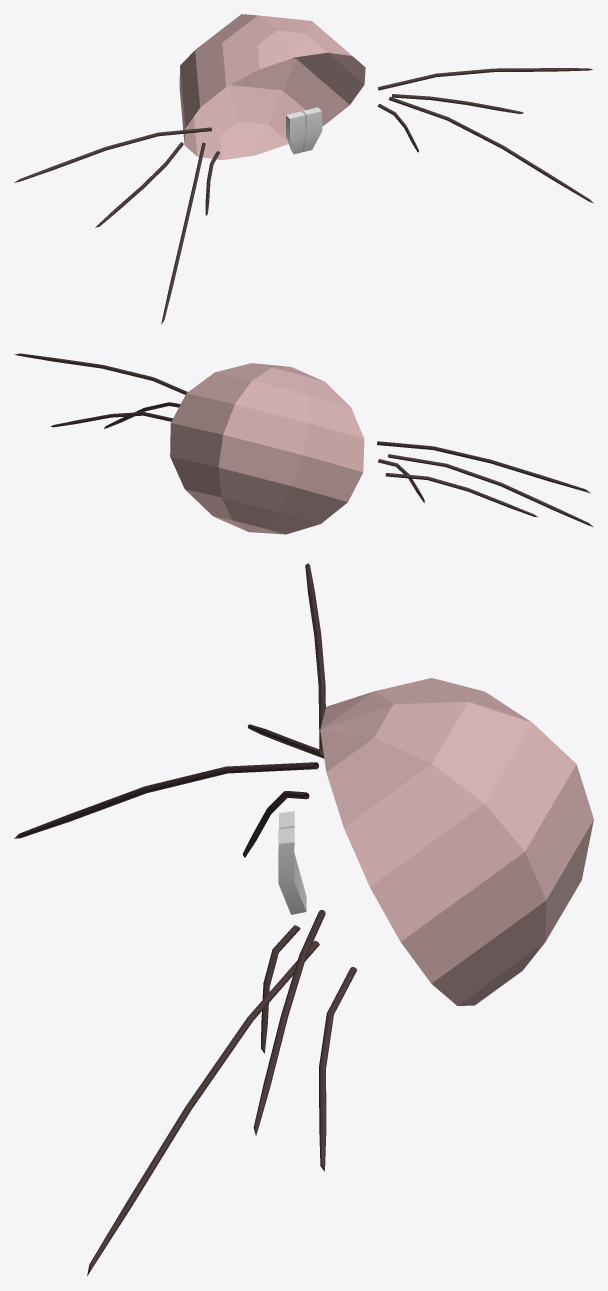
File: testesttest.fbx
3 renders of one model, top to bottom at view 1: azimuth 30°, elevation 25°; view 2: azimuth 150°, elevation 25°; view 3: azimuth 270°, elevation 25°, orthographic. The views are drawn at different scales.
Parts seen in each view (by area): view 1: mouth_geo, teeth_geo, whiskers8, whiskers6, whiskers3, whiskers1, whiskers7, whiskers2; view 2: mouth_geo, whiskers3, whiskers1, whiskers6, whiskers2, whiskers7, whiskers8; view 3: mouth_geo, whiskers8, whiskers1, teeth_geo, whiskers6, whiskers7, whiskers3.
Boxes of the visible parts, <box> form: mouth_geo: <box>179,14,365,160</box>; teeth_geo: <box>286,107,322,154</box>; whiskers8: <box>388,96,593,203</box>; whiskers6: <box>378,68,592,90</box>; whiskers3: <box>14,127,211,182</box>; whiskers1: <box>161,142,205,324</box>; whiskers7: <box>392,94,523,113</box>; whiskers2: <box>95,142,183,227</box>; mouth_geo: <box>170,363,364,534</box>; whiskers3: <box>377,441,590,493</box>; whiskers1: <box>388,454,592,526</box>; whiskers6: <box>14,353,187,394</box>; whiskers2: <box>385,473,537,517</box>; whiskers7: <box>50,412,172,427</box>; whiskers8: <box>104,402,180,428</box>; mouth_geo: <box>320,678,593,1005</box>; whiskers8: <box>87,940,319,1275</box>; whiskers1: <box>14,762,318,838</box>; teeth_geo: <box>278,811,306,914</box>; whiskers6: <box>253,910,325,1135</box>; whiskers7: <box>319,967,356,1171</box>; whiskers3: <box>305,563,325,755</box>.
Bounding box in the file's own units: 3.52 × 1.04 × 1.59.
